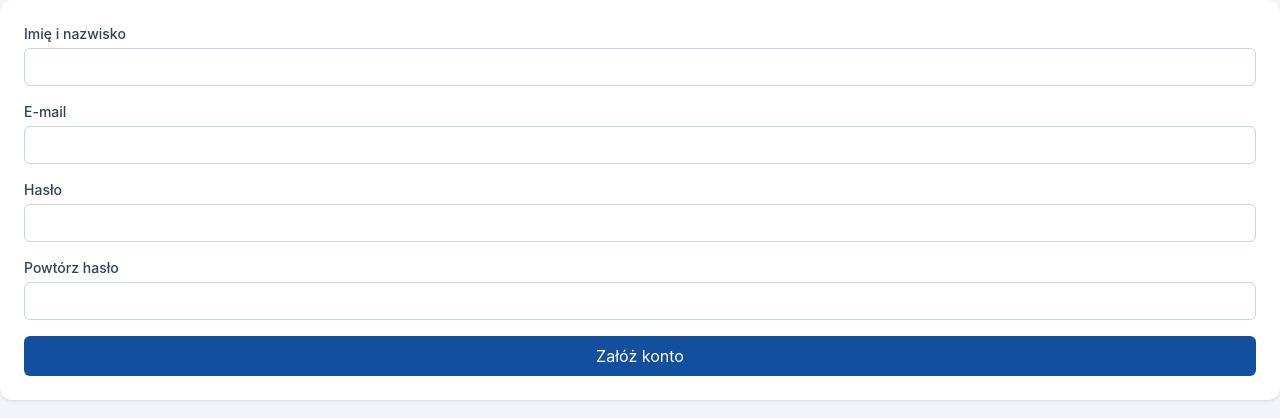
Test: stan wysyłania formularzy › rejestracja pokazuje „Zakładanie konta…”
The width and height of the screenshot is (1280, 418).
In the field labelled "Imię i nazwisko": (640,67) [24, 48, 1256, 86], type "Ada Lovelace"
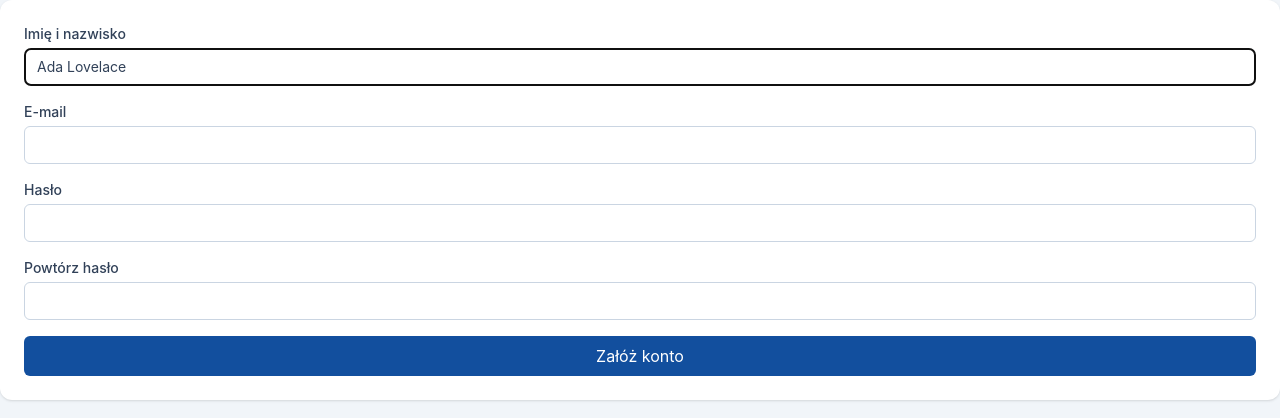
In the field labelled "E-mail": (640,145) [24, 126, 1256, 164], type "ada@example.com"
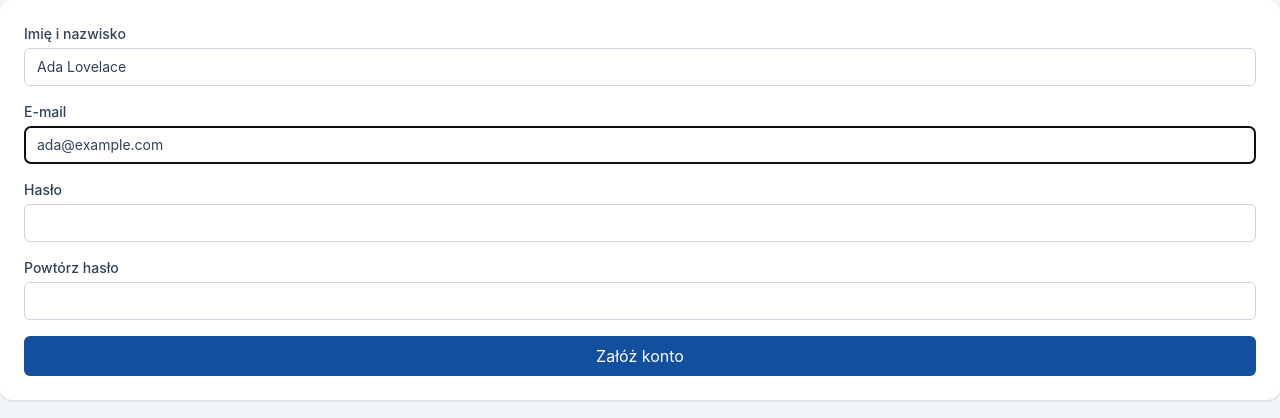
In the password field labelled "Hasło": (640,223) [24, 204, 1256, 242], type "Haslo12345!"
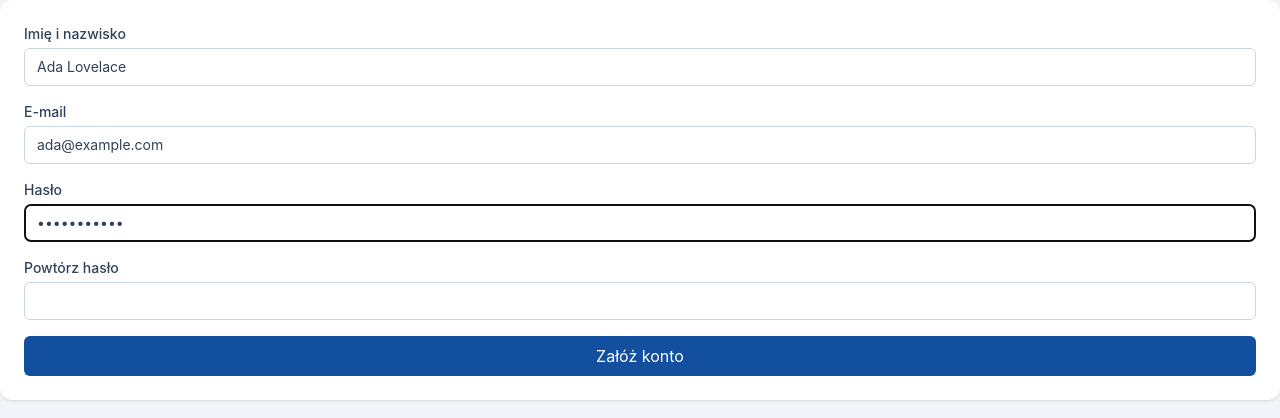
In the password field labelled "Powtórz hasło": (640,301) [24, 282, 1256, 320], type "Haslo12345!"
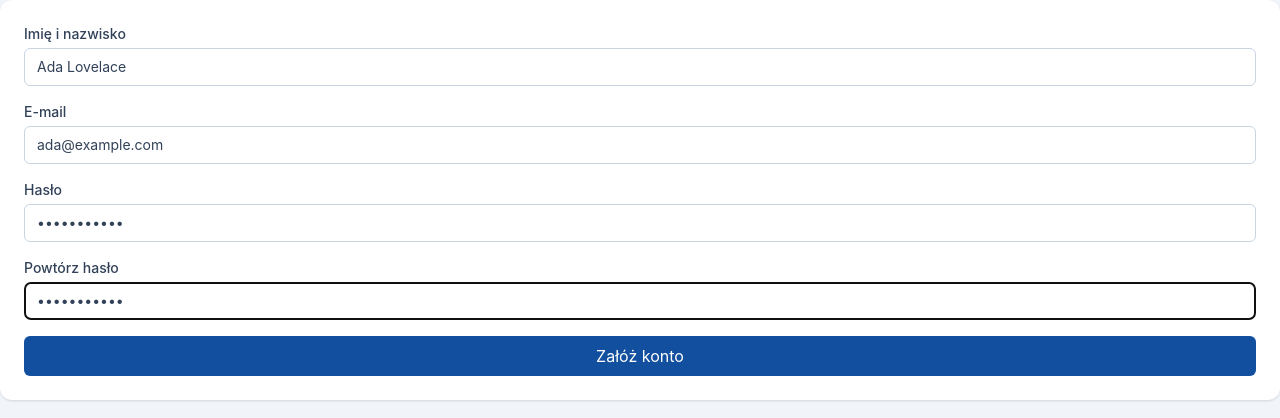
Click the button "Załóż konto": (640,356) [24, 336, 1256, 376]
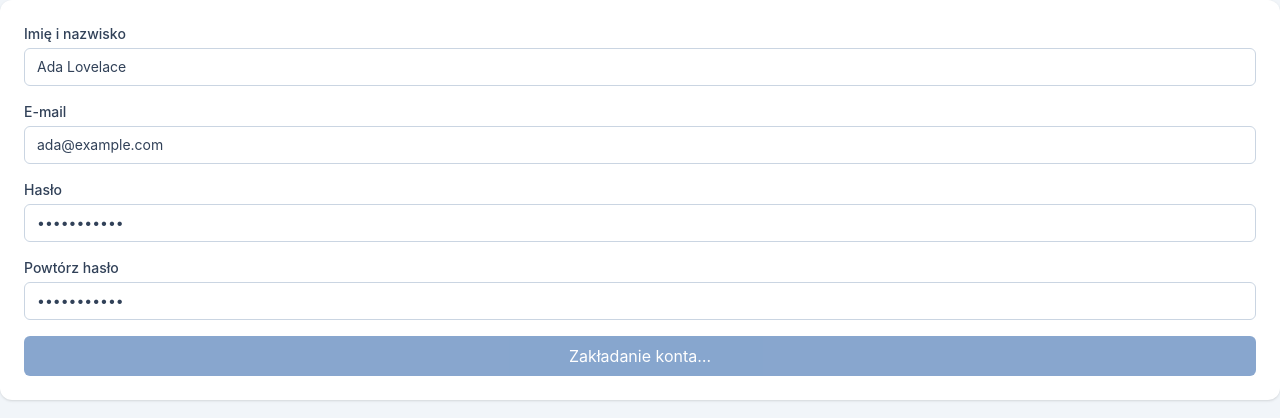
Expected: the button "Zakładanie konta…" is disabled, [24, 336, 1256, 376]
